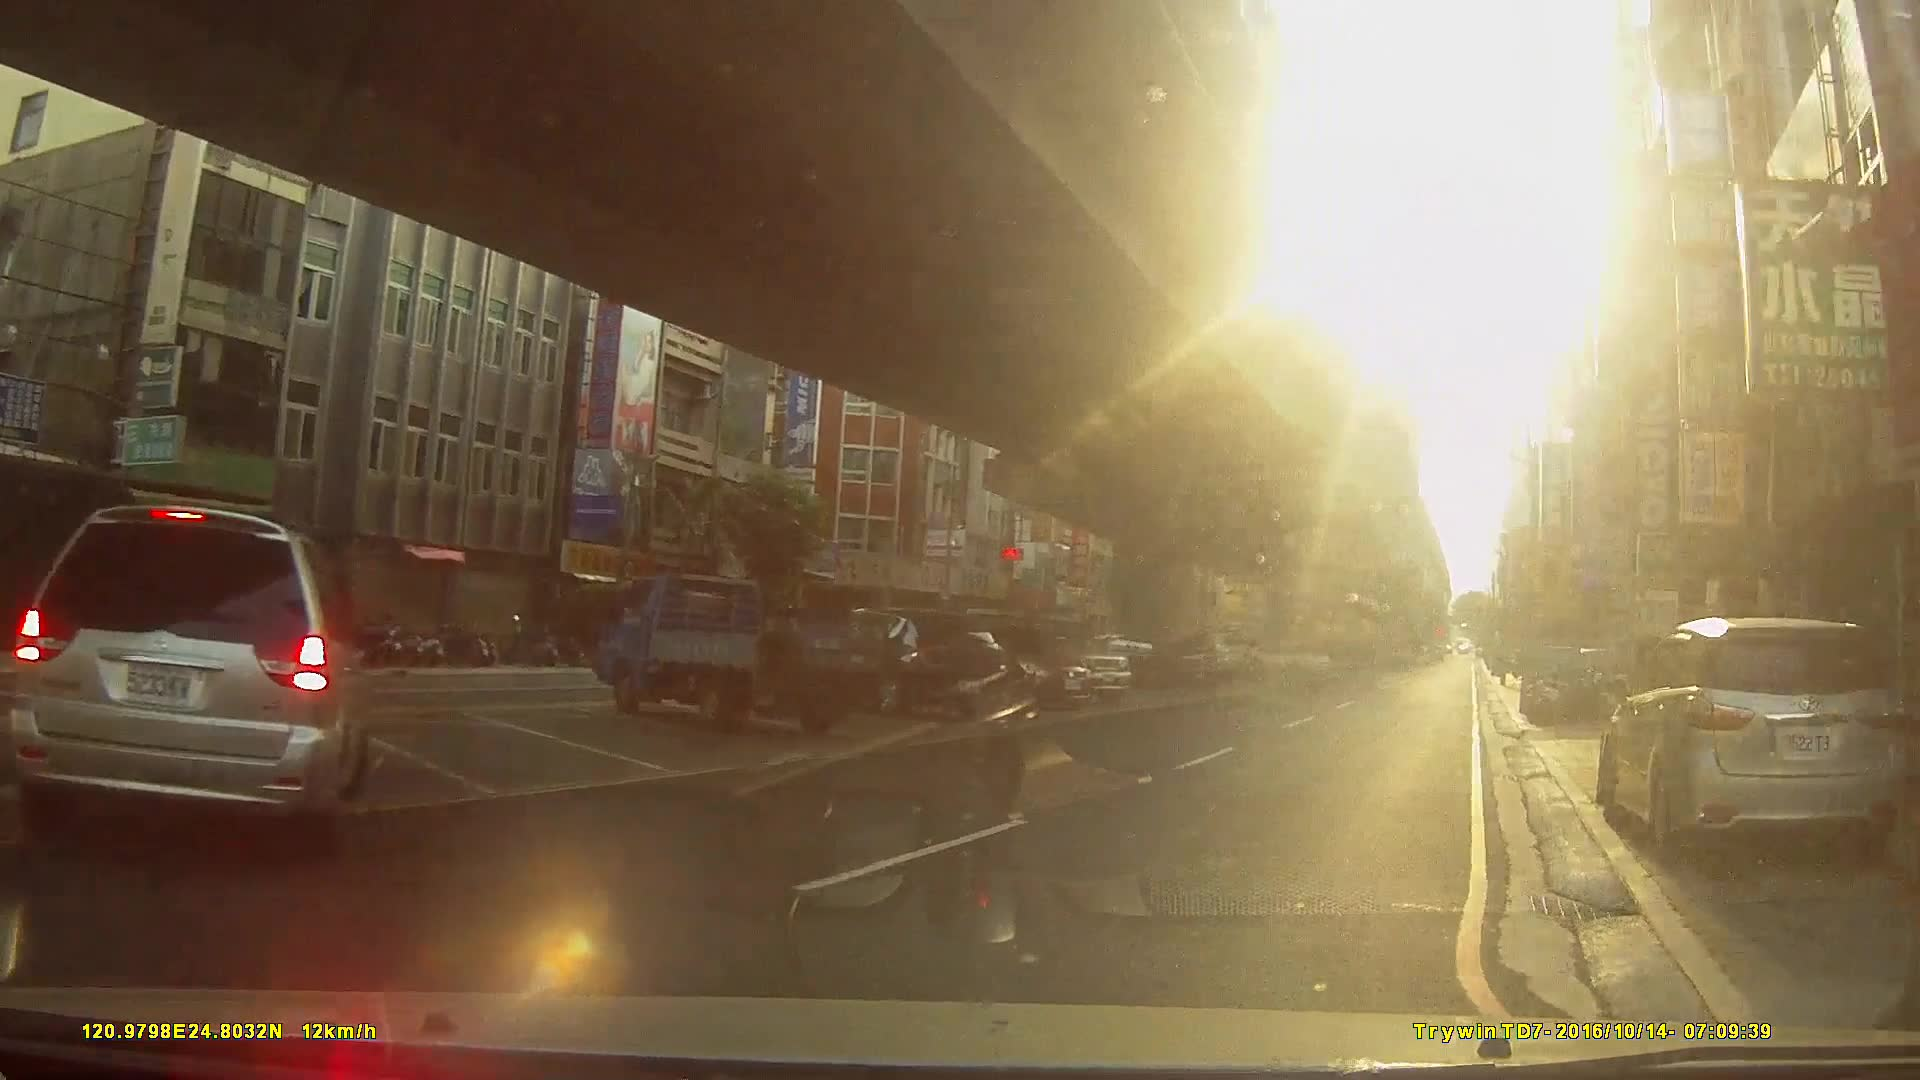vehicle: (7, 502, 371, 855), (1592, 613, 1909, 862), (588, 570, 887, 732), (815, 604, 1010, 720), (928, 615, 1097, 705), (1054, 632, 1187, 688)
